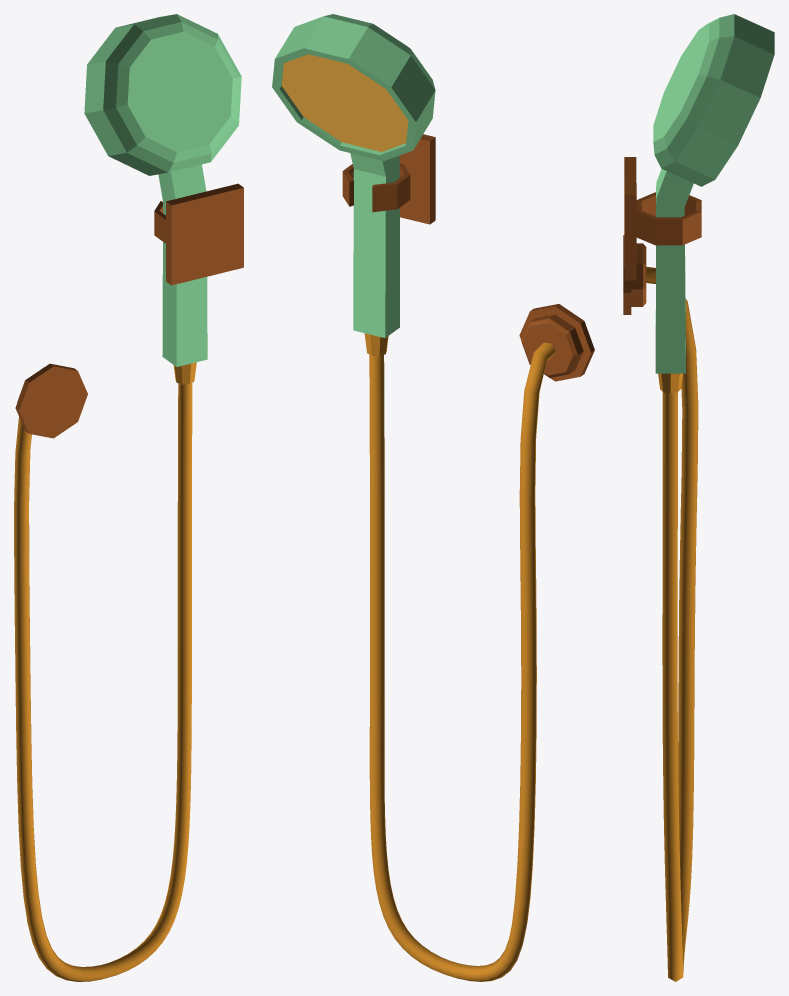
File: Shower Head 1.fbx
3 renders of one model, left to right at view 1: azimuth 30°, elevation 25°; view 2: azimuth 150°, elevation 25°; view 3: azimuth 270°, elevation 25°, orthographic. The views are drawn at different scales.
Visible parts, largest first — view 1: Node 0; view 2: Node 0; view 3: Node 0.
Boxes of the visible parts, x1=… form: Node 0: x1=14, y1=14, x2=243, y2=981; Node 0: x1=272, y1=14, x2=594, y2=981; Node 0: x1=623, y1=14, x2=774, y2=981.
Size of the model in its own units: 0.1433 by 1.03 by 0.3018.
